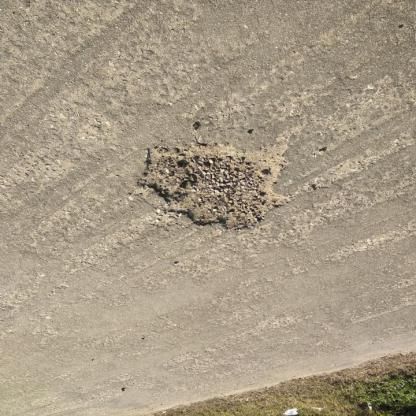pothole: (136, 144, 294, 234)
